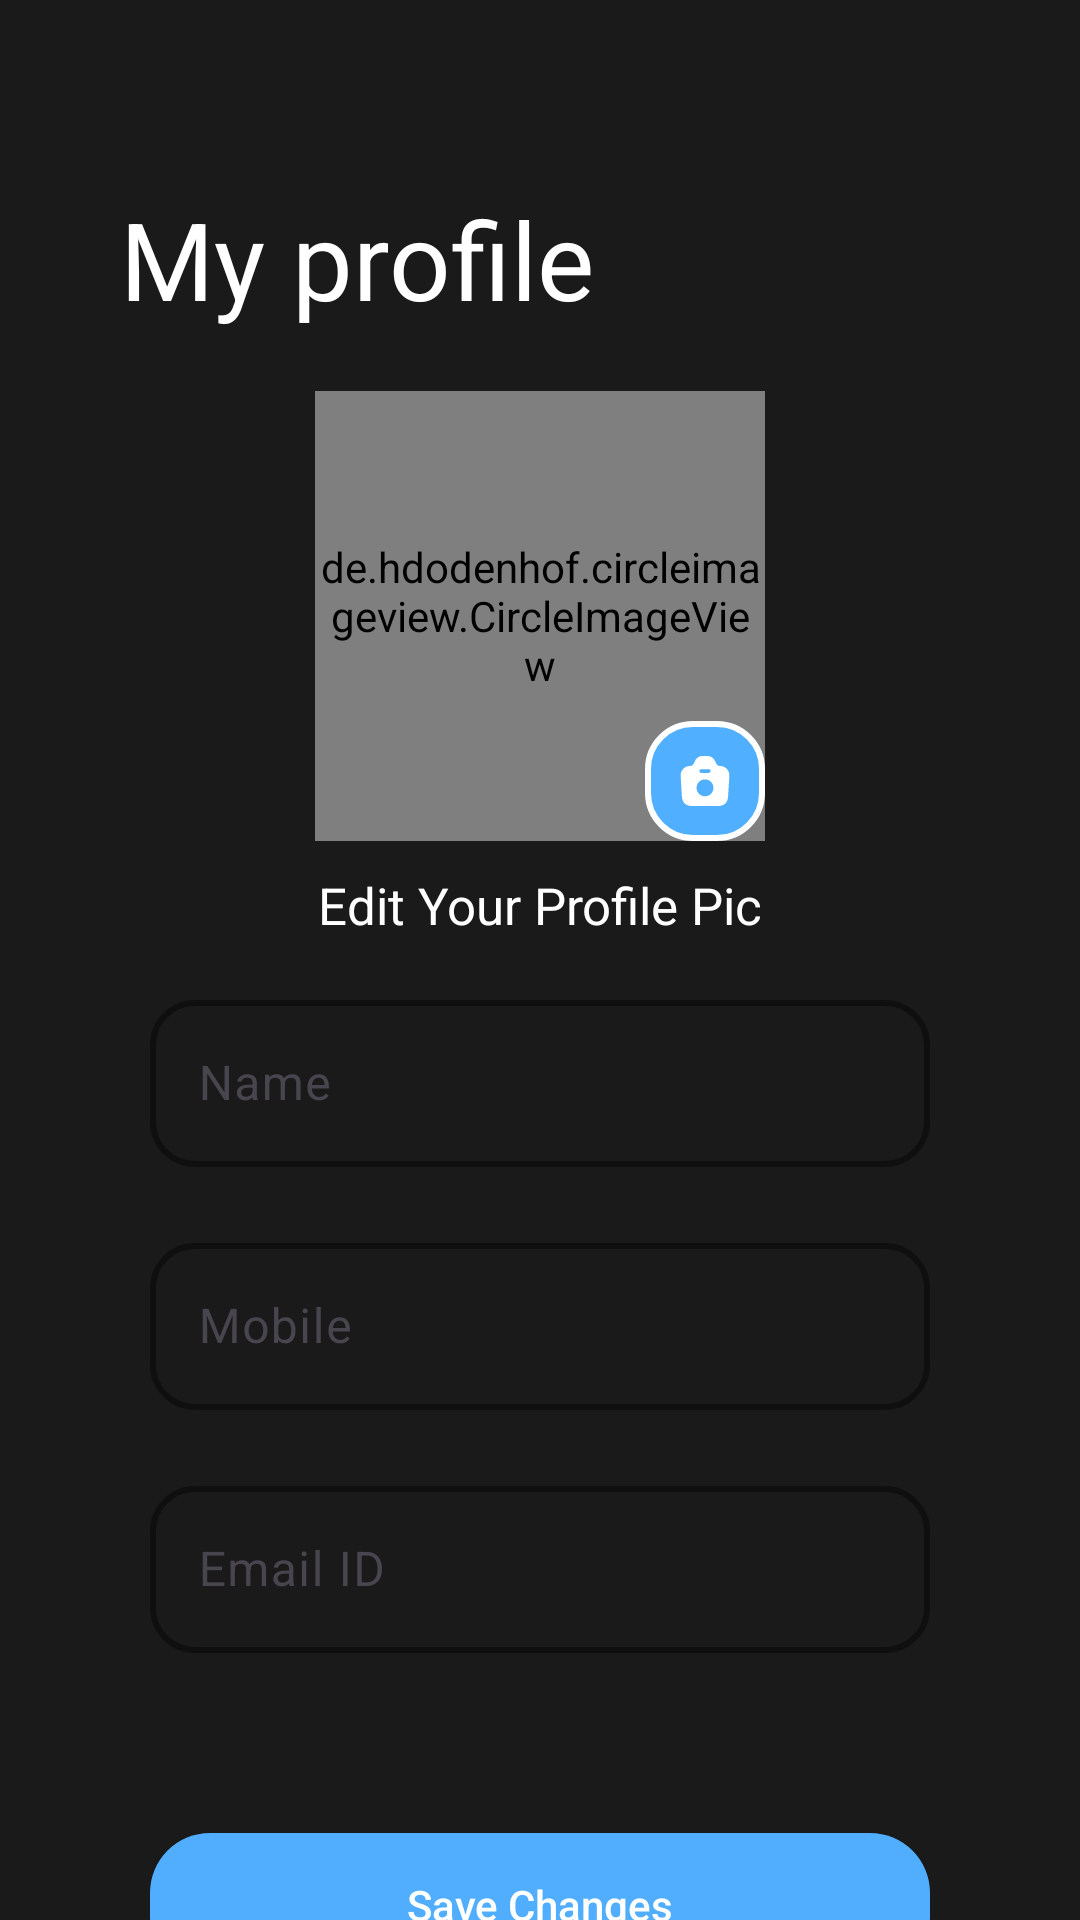

Where to tap for icons on this 1080w x 1920h app screen, as (x,y):
camera: (705,781)
